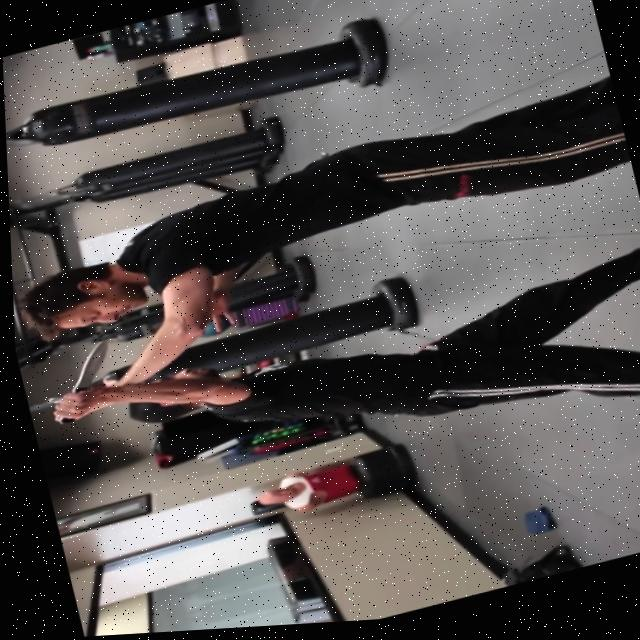knife: (58, 339, 116, 394)
